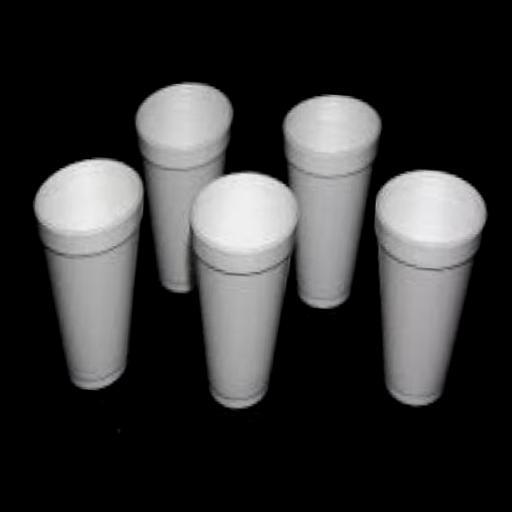paper: (366, 162, 493, 408), (22, 151, 149, 390), (180, 164, 302, 408), (273, 86, 387, 312), (126, 74, 238, 294)
